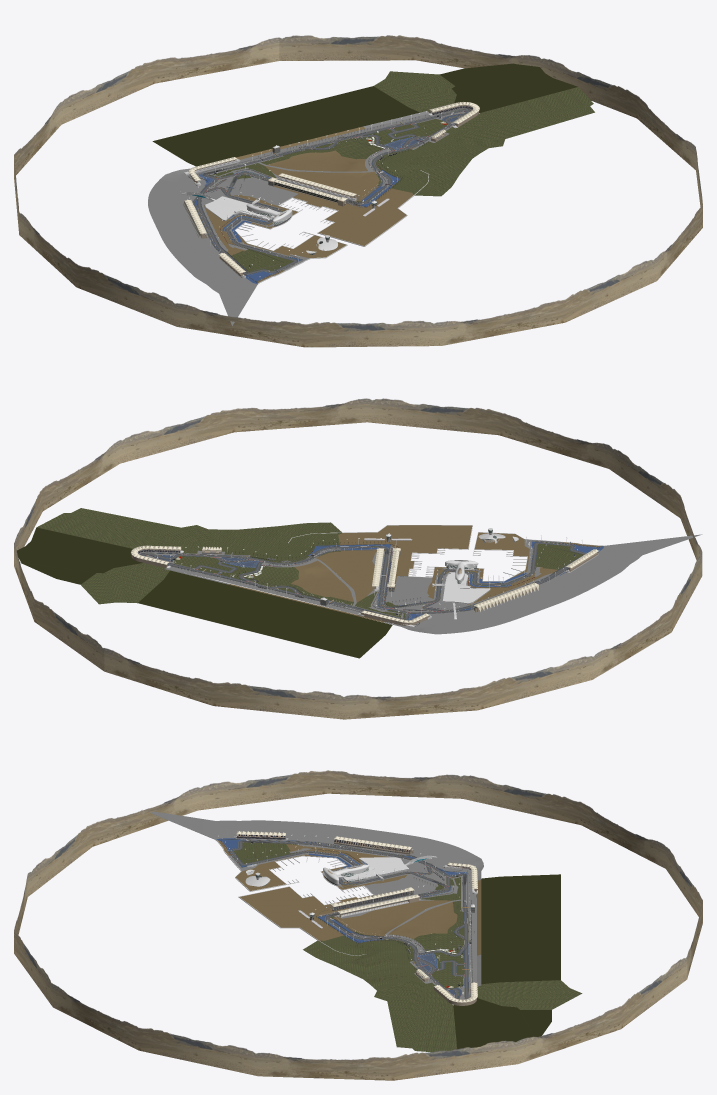
The model's file is yas_marina.glb.
3 views of the same model, one above another, from view 1: azimuth 30°, elevation 25°; view 2: azimuth 150°, elevation 25°; view 3: azimuth 270°, elevation 25° (orthographic).
Parts seen in each view (by area): view 1: dcgp_yas_marina_2026_0; view 2: dcgp_yas_marina_2026_0; view 3: dcgp_yas_marina_2026_0.
Boxes of the visible parts, x1,y1,x2,y2 form: dcgp_yas_marina_2026_0: [14, 35, 702, 347]; dcgp_yas_marina_2026_0: [14, 398, 702, 719]; dcgp_yas_marina_2026_0: [14, 770, 702, 1080].
Size of what is drawn, in the model's own units: 2690 by 199 by 2728.
Materials: 93 (88 with a texture image).
